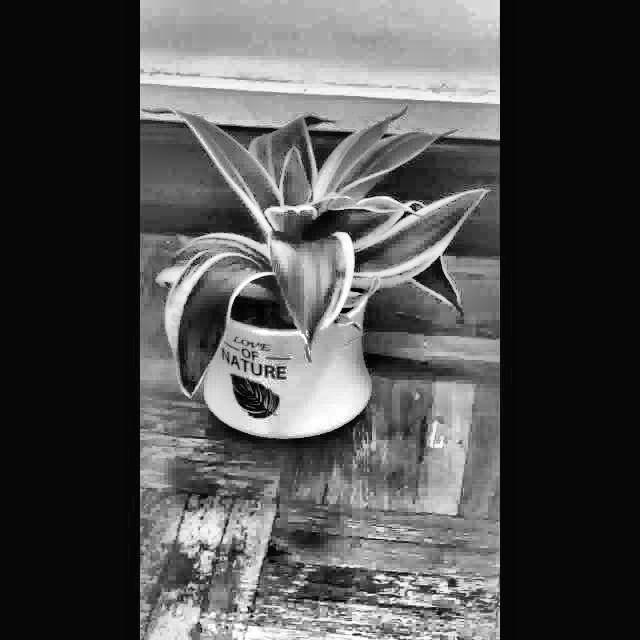plants: (140, 98, 499, 456)
